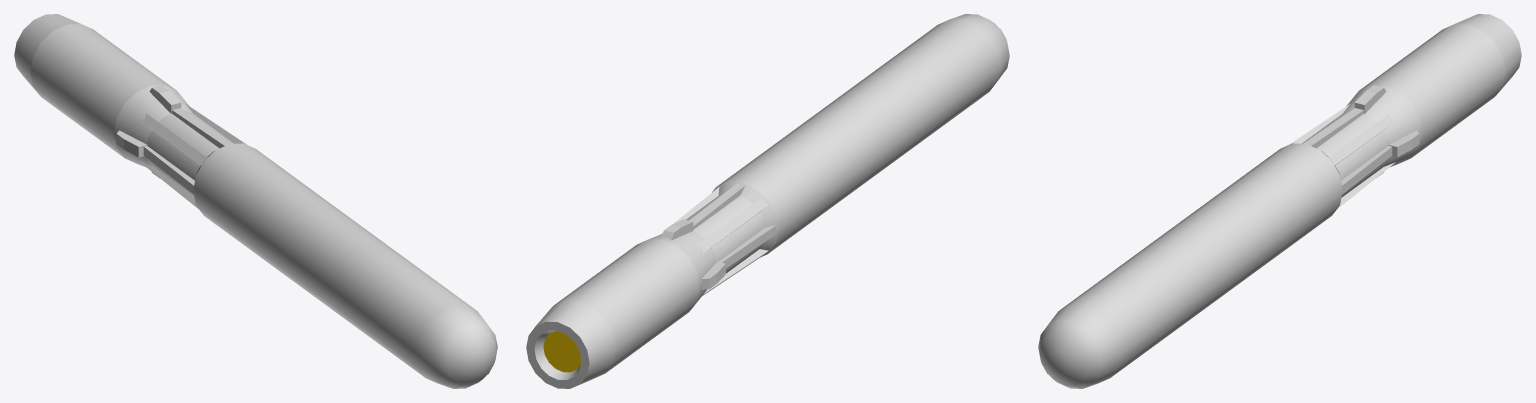
Rendered from VGM-2 Final.fbx.
3 views of the same model, side by side, from view 1: azimuth 30°, elevation 25°; view 2: azimuth 150°, elevation 25°; view 3: azimuth 330°, elevation 25° (orthographic).
Visible parts, largest first — view 1: VGM-2; view 2: VGM-2; view 3: VGM-2.
Part boxes in pixels (x1,y1,x2,y2): VGM-2: (14,14,497,388); VGM-2: (526,14,1009,388); VGM-2: (1038,14,1521,388).
Size of the model in its own units: 6.57 by 60.39 by 6.57.
